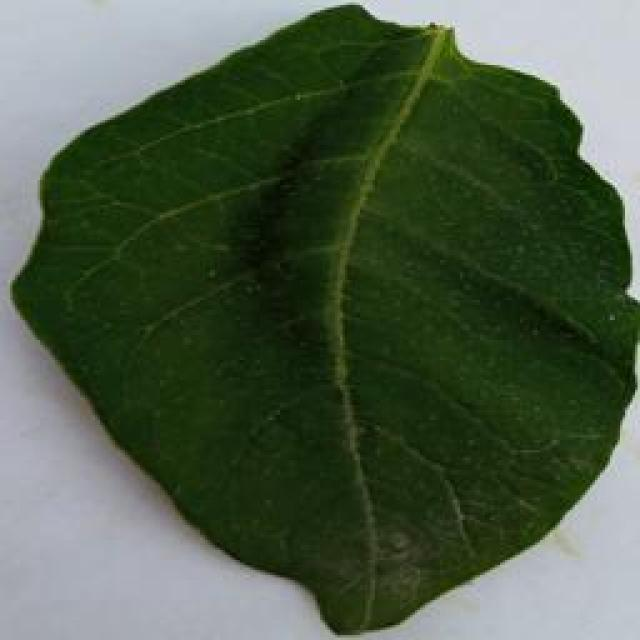Potato_Healthy: (5, 7, 636, 631)
